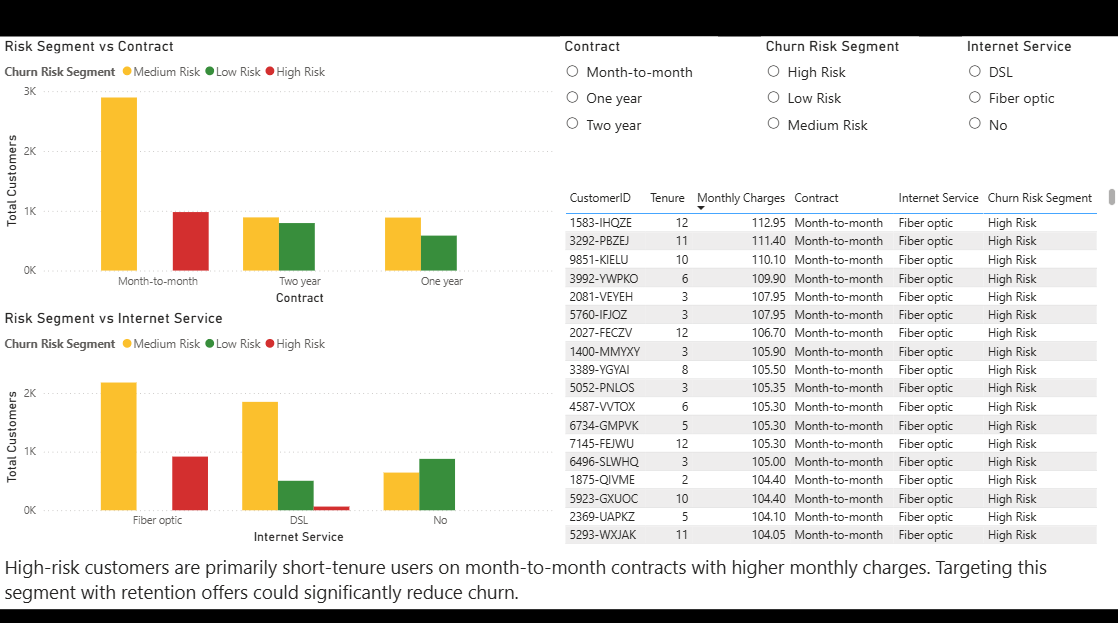

The page's visual inventory and layout, read from the dashboard file:
{"tool":"powerbi","page":{"name":"Risk Deep Dive","canvas":[1280,720],"ordinal":2},"visuals":[{"type":"clusteredColumnChart","title":"Risk Segment vs Contract","fields":{"Category":["churn_risk_model.Contract"],"Y":["CountNonNull(churn_risk_model.customerID)"],"Series":["churn_risk_model.churn_risk_segment"]},"box":[0,48.8,640,311.2],"z":0},{"type":"clusteredColumnChart","title":"Risk Segment vs Internet Service","fields":{"Category":["churn_risk_model.InternetService"],"Y":["CountNonNull(churn_risk_model.customerID)"],"Series":["churn_risk_model.churn_risk_segment"]},"box":[0,360,637.5,273.8],"z":1},{"type":"tableEx","fields":{"Values":["churn_risk_model.customerID","churn_risk_model.tenure","churn_risk_model.MonthlyCharges","churn_risk_model.Contract","churn_risk_model.InternetService","churn_risk_model.churn_risk_segment"]},"box":[640,217.5,640,416.2],"z":2},{"type":"shape","box":[0,0,1280,48.6],"z":3},{"type":"shape","box":[0,702.9,1280,17.1],"z":4},{"type":"listSlicer","fields":{"Values":["churn_risk_model.Contract"]},"box":[640,48.8,180,128.8],"z":6},{"type":"listSlicer","fields":{"Values":["churn_risk_model.InternetService"]},"box":[1100,48.6,180,128.6],"z":7},{"type":"listSlicer","fields":{"Values":["churn_risk_model.churn_risk_segment"]},"box":[870,48.8,180,128.8],"z":8},{"type":"textbox","box":[0,634.3,1280,68.6],"z":9}]}

Visuals, with their boxes in screenshot pixels (x1, y1, x2, y2), scaled from the page's 1280x720 canvas onto the 1118x623 screenshot:
"Risk Segment vs Contract" clusteredColumnChart: x1=0 y1=42 x2=559 y2=312
"Risk Segment vs Internet Service" clusteredColumnChart: x1=0 y1=312 x2=557 y2=548
tableEx - churn_risk_model.customerID x churn_risk_model.tenure: x1=559 y1=188 x2=1117 y2=548
shape: x1=0 y1=0 x2=1117 y2=42
shape: x1=0 y1=608 x2=1117 y2=622
listSlicer - churn_risk_model.Contract: x1=559 y1=42 x2=716 y2=154
listSlicer - churn_risk_model.InternetService: x1=961 y1=42 x2=1117 y2=153
listSlicer - churn_risk_model.churn_risk_segment: x1=760 y1=42 x2=917 y2=154
textbox: x1=0 y1=549 x2=1117 y2=608
